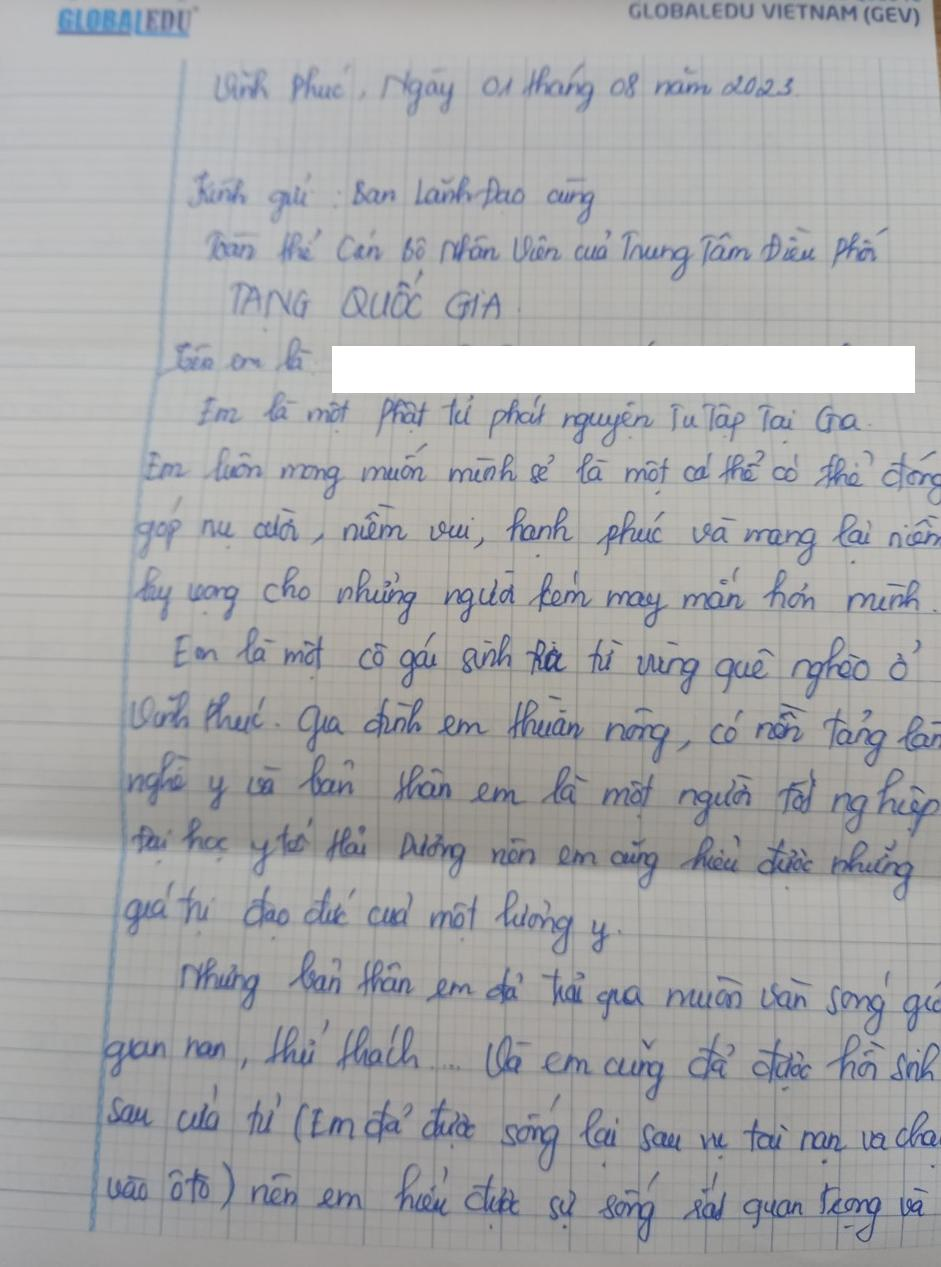text: (104, 1077, 941, 1174), (100, 1154, 930, 1251), (100, 1016, 941, 1110), (124, 747, 941, 843), (126, 814, 914, 910), (176, 946, 941, 1041), (124, 687, 941, 774), (131, 490, 941, 571), (169, 619, 926, 703), (131, 563, 926, 630), (134, 441, 941, 506), (204, 223, 893, 289), (193, 389, 867, 451), (123, 877, 616, 961), (210, 59, 797, 121), (183, 164, 597, 231), (224, 267, 506, 336), (624, 0, 923, 29), (153, 331, 320, 377), (53, 3, 194, 41)
